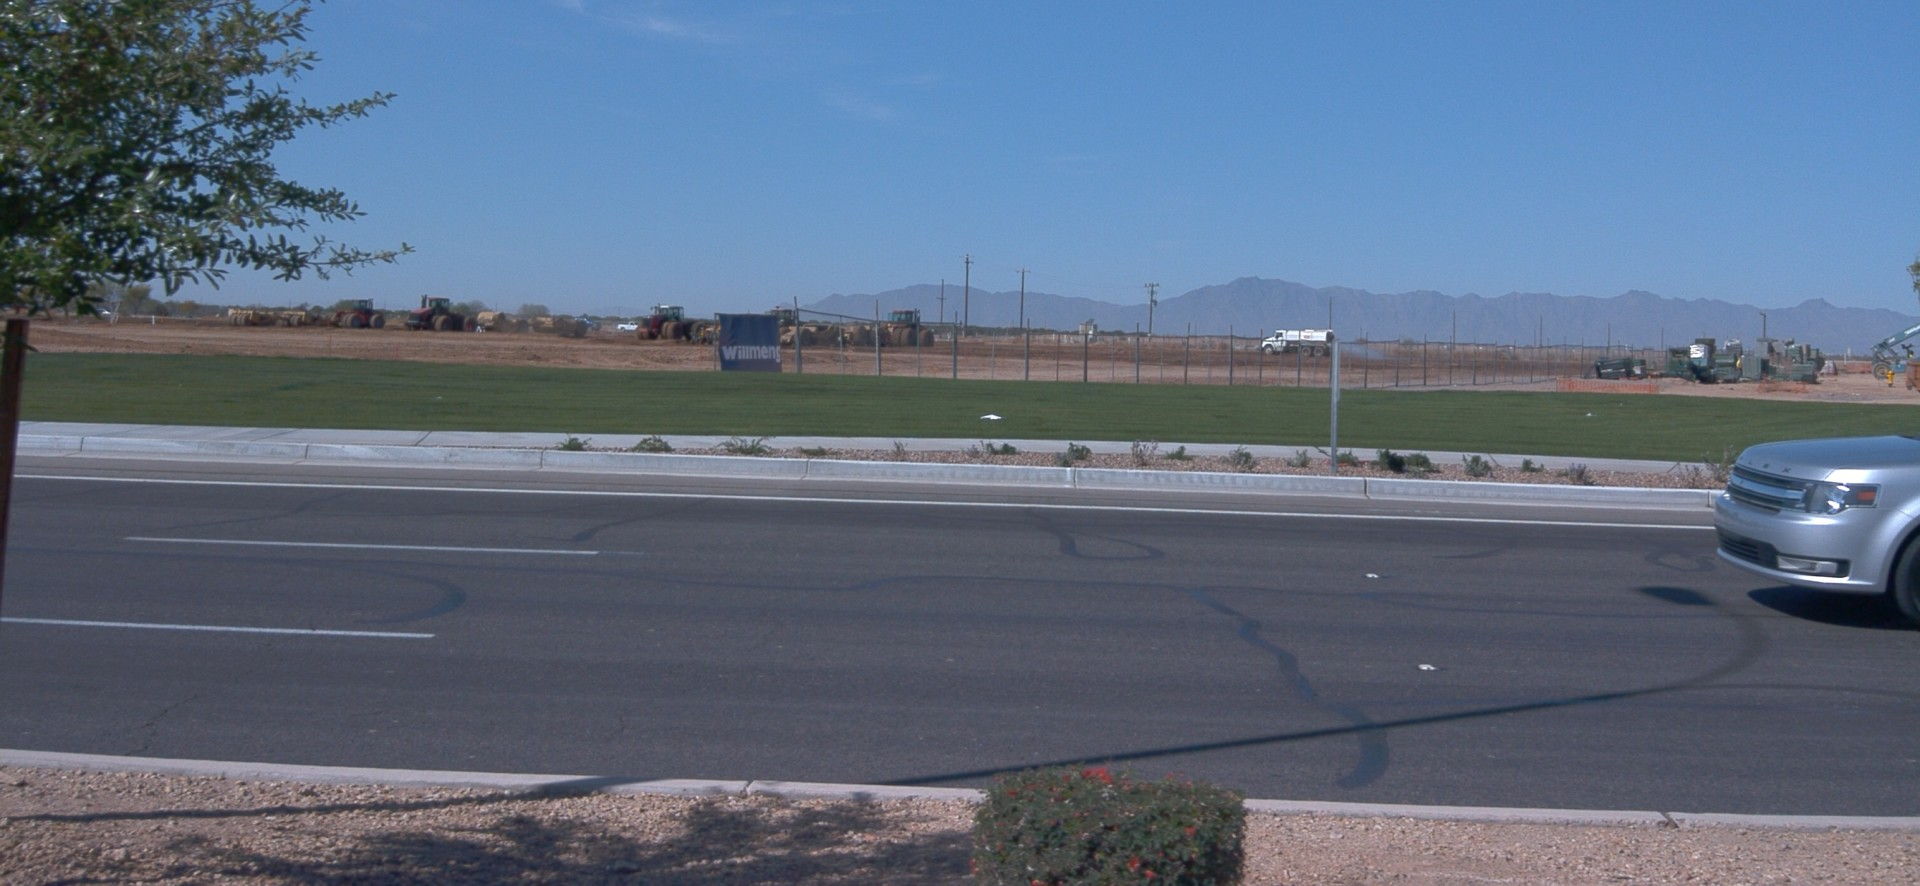TYPE_VEHICLE: (1710, 438, 1920, 628), (636, 302, 713, 342), (1872, 323, 1920, 387), (407, 292, 481, 332), (872, 306, 936, 348), (749, 298, 801, 343), (1261, 327, 1336, 358), (327, 295, 383, 332), (782, 327, 845, 350), (230, 309, 312, 324), (613, 316, 636, 330), (572, 315, 595, 328)
